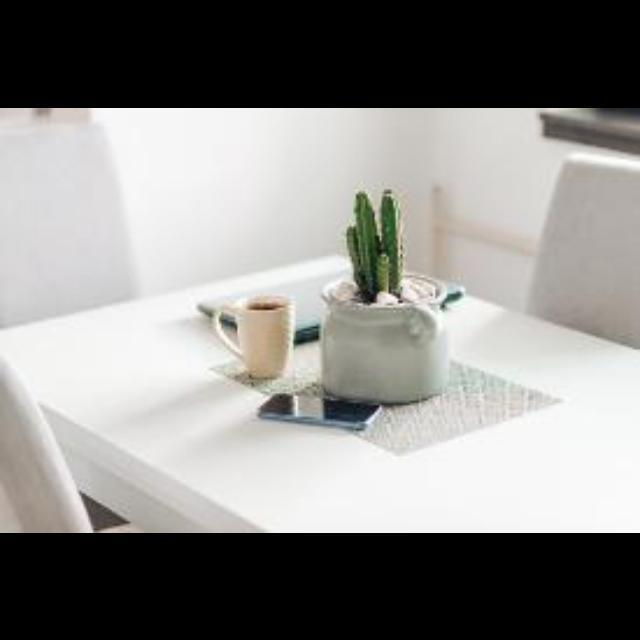Phone: (257, 390, 385, 430)
